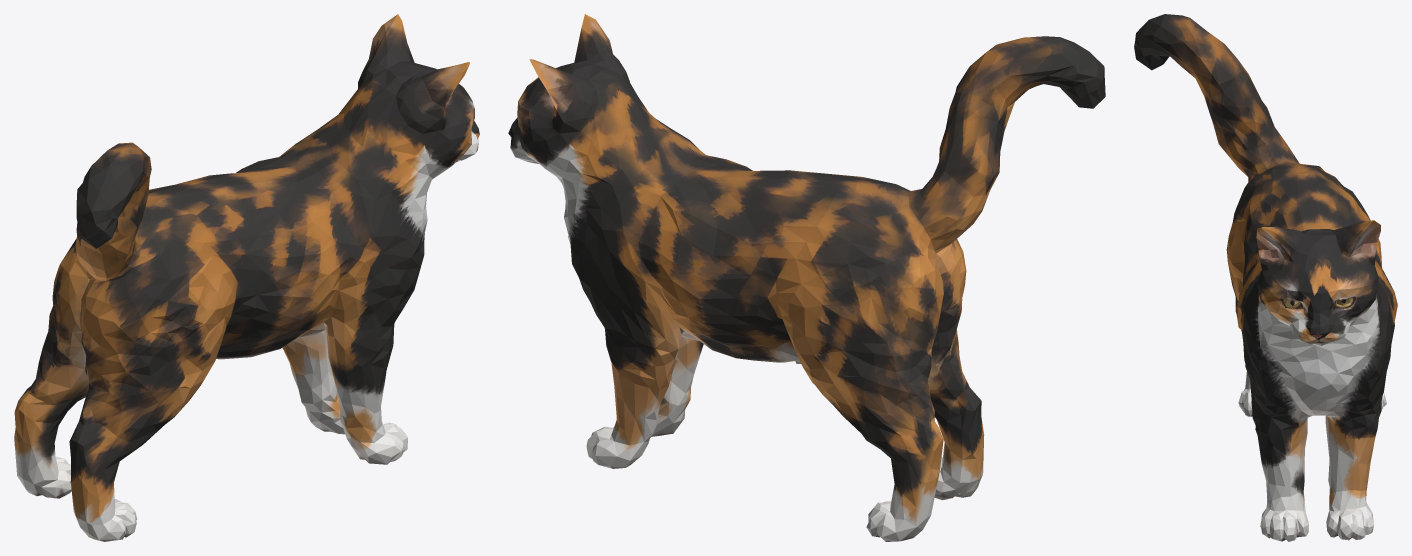
The model's file is cat.glb.
3 renders of one model, left to right at view 1: azimuth 30°, elevation 25°; view 2: azimuth 150°, elevation 25°; view 3: azimuth 270°, elevation 25°, orthographic. The views are drawn at different scales.
Visible parts, largest first — view 1: tripo_node_00000000-0000-0000-0000-000000000000; view 2: tripo_node_00000000-0000-0000-0000-000000000000; view 3: tripo_node_00000000-0000-0000-0000-000000000000.
Part boxes in pixels (box(x1,y1,x2,y2)): tripo_node_00000000-0000-0000-0000-000000000000: box(14, 14, 479, 541); tripo_node_00000000-0000-0000-0000-000000000000: box(508, 14, 1105, 541); tripo_node_00000000-0000-0000-0000-000000000000: box(1134, 14, 1397, 541).
Bounding box in the file's own units: 1 × 0.8333 × 0.5247.
1 material, 1 textured.
